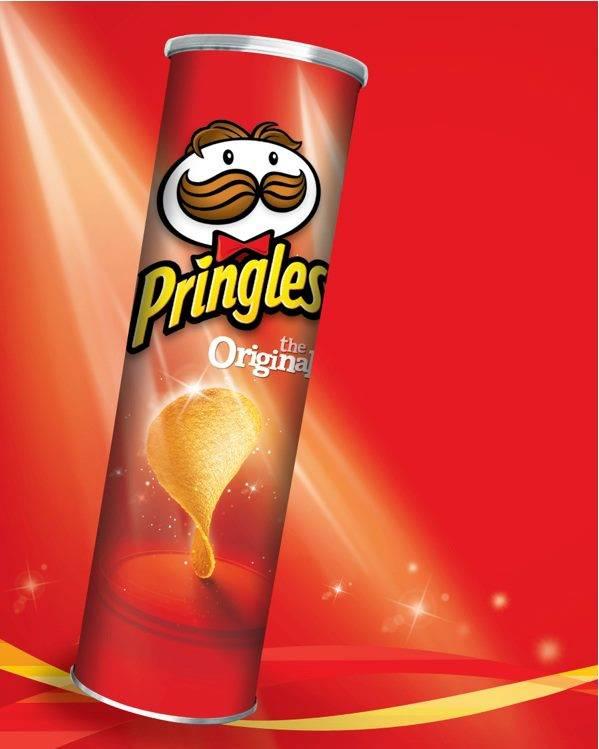pringle: (65, 31, 374, 729)
